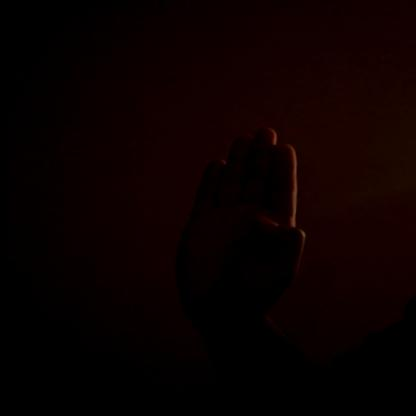B: (167, 121, 315, 329)
